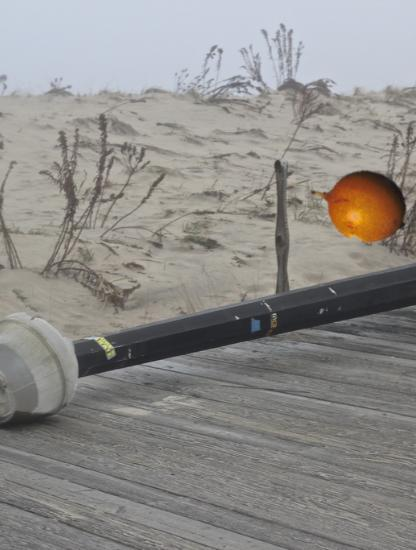Granadilla: (309, 155, 409, 255)
